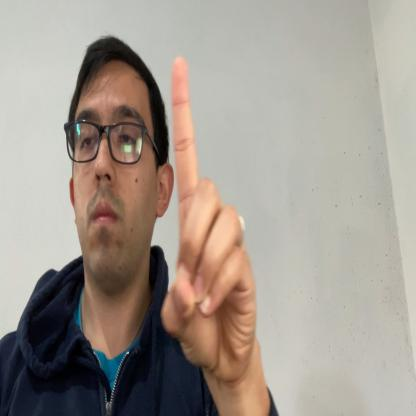D: (162, 56, 257, 382)
